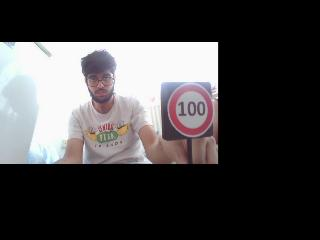Speedlimit_100: (162, 82, 214, 138)
